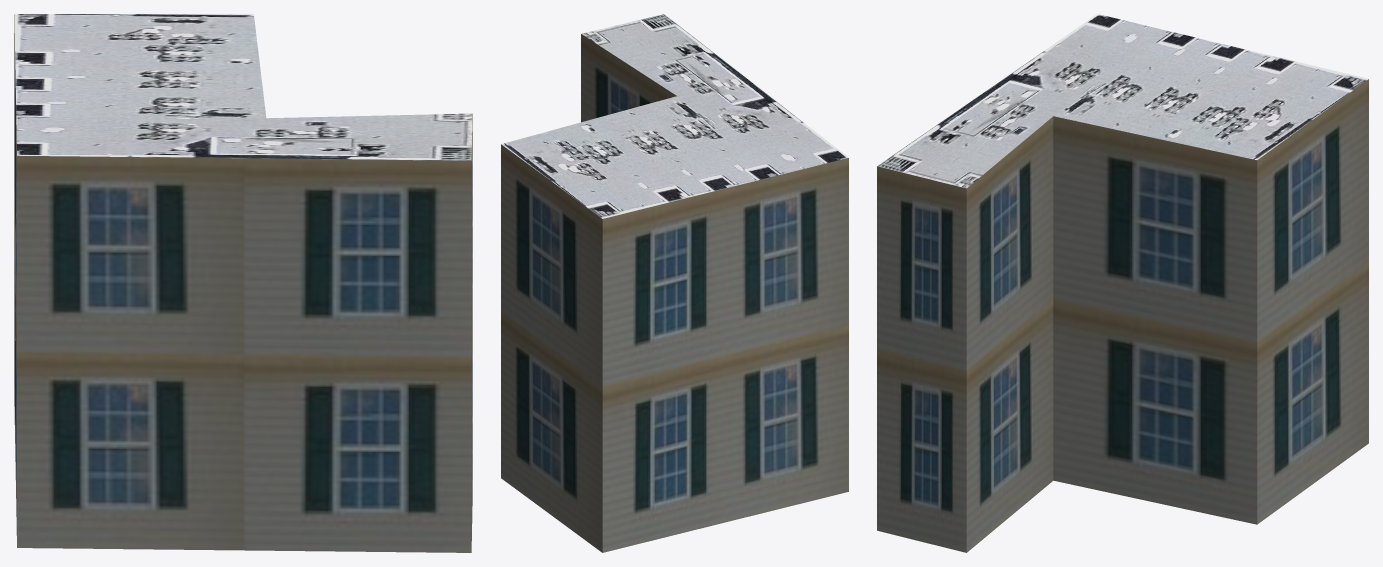
File: ResTex__3527.fbx
The picture shows the model from 3 angles, left to right: view 1: azimuth 30°, elevation 25°; view 2: azimuth 150°, elevation 25°; view 3: azimuth 270°, elevation 25°; orthographic projection. The views are drawn at different scales.
Visible parts, largest first — view 1: CityEngineMaterial_7_m, CityEngineMaterial_m; view 2: CityEngineMaterial_7_m, CityEngineMaterial_m; view 3: CityEngineMaterial_7_m, CityEngineMaterial_m.
Boxes of the visible parts, <box> form: CityEngineMaterial_7_m: <box>14,15,472,552</box>; CityEngineMaterial_m: <box>14,14,472,160</box>; CityEngineMaterial_7_m: <box>501,34,848,552</box>; CityEngineMaterial_m: <box>501,14,848,218</box>; CityEngineMaterial_7_m: <box>877,79,1368,552</box>; CityEngineMaterial_m: <box>877,14,1368,188</box>.
Bounding box in the file's own units: 6.16 × 6 × 7.34.
Materials: 2 (2 with a texture image).
